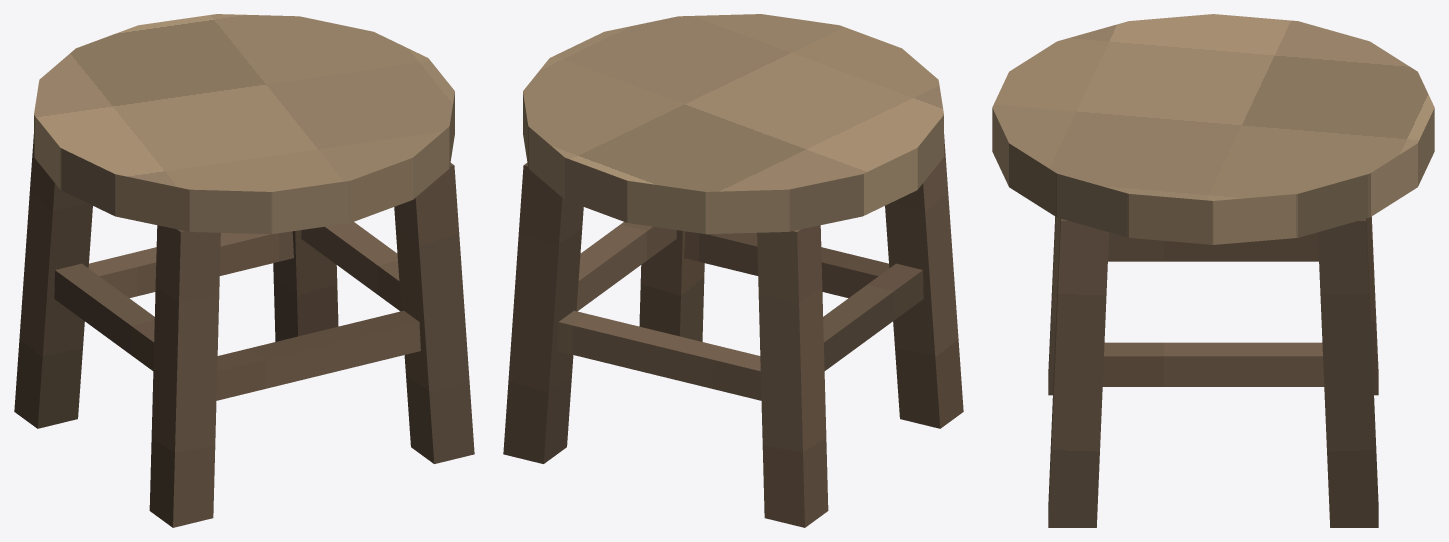
Rendered from wood-round-stool.glb.
The picture shows the model from 3 angles, left to right: view 1: azimuth 30°, elevation 25°; view 2: azimuth 150°, elevation 25°; view 3: azimuth 270°, elevation 25°; orthographic projection. The views are drawn at different scales.
Parts seen in each view (by area): view 1: wood-round-stool/seat, wood-round-stool/leg-0-0, wood-round-stool/leg-1-0, wood-round-stool/leg-0-1, wood-round-stool/cross-stretcher--1, wood-round-stool/leg-1-1, wood-round-stool/end-stretcher--1, wood-round-stool/cross-stretcher-1, wood-round-stool/end-stretcher-1; view 2: wood-round-stool/seat, wood-round-stool/leg-0-1, wood-round-stool/leg-1-1, wood-round-stool/leg-0-0, wood-round-stool/cross-stretcher-1, wood-round-stool/leg-1-0, wood-round-stool/end-stretcher--1, wood-round-stool/cross-stretcher--1, wood-round-stool/end-stretcher-1; view 3: wood-round-stool/seat, wood-round-stool/leg-1-0, wood-round-stool/leg-1-1, wood-round-stool/end-stretcher-1, wood-round-stool/end-stretcher--1, wood-round-stool/leg-0-0, wood-round-stool/leg-0-1.
Part boxes in pixels (box(x1,y1,x2,y2)): wood-round-stool/seat: box(34, 14, 454, 234); wood-round-stool/leg-0-0: box(149, 225, 220, 527); wood-round-stool/leg-1-0: box(394, 163, 474, 463); wood-round-stool/leg-0-1: box(14, 134, 92, 428); wood-round-stool/cross-stretcher--1: box(216, 310, 420, 400); wood-round-stool/leg-1-1: box(273, 230, 338, 341); wood-round-stool/end-stretcher--1: box(54, 263, 154, 370); wood-round-stool/cross-stretcher-1: box(88, 231, 293, 298); wood-round-stool/end-stretcher-1: box(301, 222, 401, 311); wood-round-stool/seat: box(523, 14, 943, 234); wood-round-stool/leg-0-1: box(757, 225, 828, 527); wood-round-stool/leg-1-1: box(503, 163, 583, 463); wood-round-stool/leg-0-0: box(885, 134, 963, 428); wood-round-stool/cross-stretcher-1: box(557, 310, 761, 400); wood-round-stool/leg-1-0: box(639, 230, 704, 341); wood-round-stool/end-stretcher--1: box(823, 263, 923, 370); wood-round-stool/cross-stretcher--1: box(684, 231, 889, 298); wood-round-stool/end-stretcher-1: box(576, 222, 676, 311); wood-round-stool/seat: box(992, 14, 1434, 244); wood-round-stool/leg-1-0: box(1048, 218, 1108, 527); wood-round-stool/leg-1-1: box(1318, 218, 1378, 527); wood-round-stool/end-stretcher-1: box(1102, 342, 1324, 386); wood-round-stool/end-stretcher--1: box(1108, 232, 1318, 261); wood-round-stool/leg-0-0: box(1048, 216, 1060, 395); wood-round-stool/leg-0-1: box(1366, 216, 1378, 395).
Size of the model in its own units: 0.328 by 0.2812 by 0.328.
2 materials, 2 textured.
